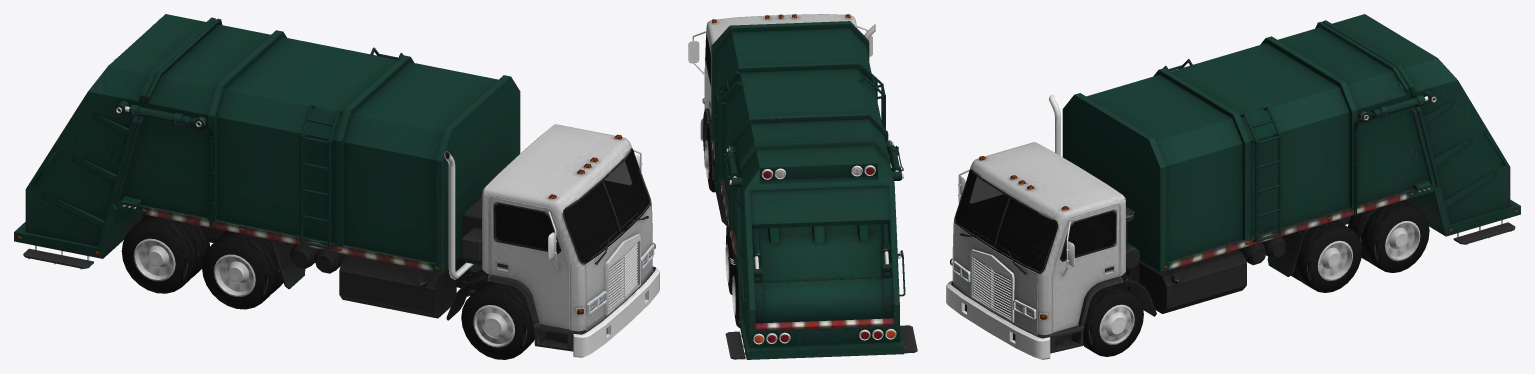
Rendered from veh-basura.glb.
3 renders of one model, left to right at view 1: azimuth 30°, elevation 25°; view 2: azimuth 150°, elevation 25°; view 3: azimuth 270°, elevation 25°, orthographic. The views are drawn at different scales.
Parts seen in each view (by area): view 1: garbage_truck; view 2: garbage_truck; view 3: garbage_truck.
Part boxes in pixels (<box>): garbage_truck: <box>14,14,659,359</box>; garbage_truck: <box>688,14,917,359</box>; garbage_truck: <box>946,14,1520,359</box>.
Bounding box in the file's own units: 6.14 × 2.83 × 7.44.
Materials: 3 (3 with a texture image).
